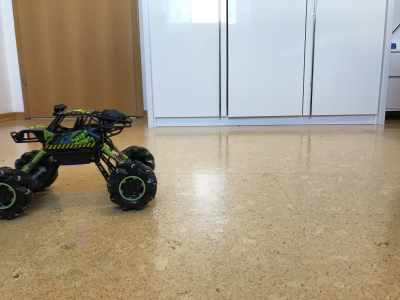remote control car: (1, 102, 160, 223)
